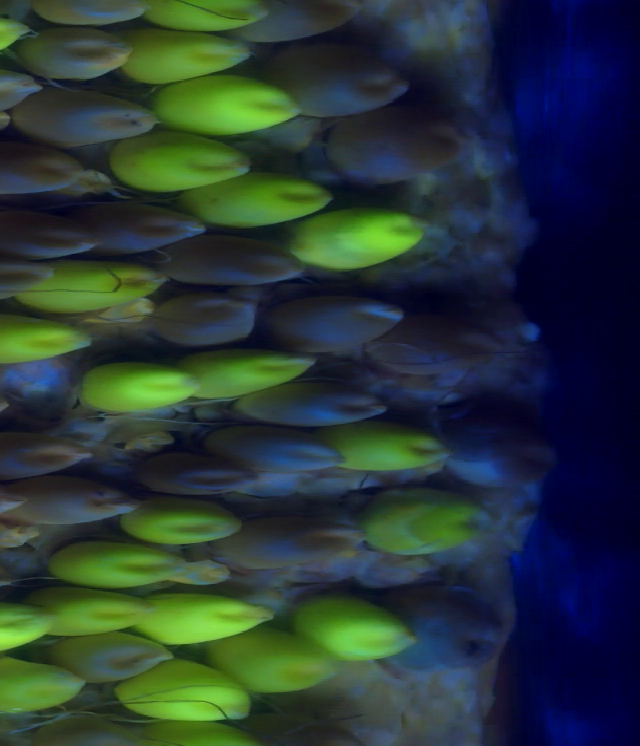fluorescent: (303, 202, 429, 269), (155, 78, 306, 129), (132, 665, 258, 718), (300, 595, 416, 650), (88, 356, 188, 417), (225, 633, 333, 687), (368, 501, 486, 549), (52, 537, 180, 581), (110, 494, 239, 537), (336, 431, 451, 478), (190, 353, 299, 400), (49, 263, 152, 310), (149, 597, 270, 637), (141, 1, 276, 36), (132, 133, 235, 178), (41, 588, 145, 631), (215, 179, 323, 220), (129, 36, 251, 68), (0, 656, 80, 702), (0, 310, 86, 352), (0, 602, 45, 645)
nonfluorescent: (280, 37, 412, 111), (403, 288, 488, 382), (29, 88, 168, 145), (354, 97, 459, 172), (235, 508, 358, 571), (409, 581, 493, 668), (459, 400, 538, 485), (164, 239, 309, 285), (274, 289, 399, 342), (91, 194, 196, 249), (219, 429, 344, 471), (265, 1, 384, 45), (258, 384, 387, 421), (58, 633, 170, 675), (16, 36, 123, 79), (162, 294, 249, 340), (0, 213, 91, 255), (0, 430, 88, 471), (0, 145, 83, 188), (39, 487, 119, 529), (144, 453, 236, 488)
